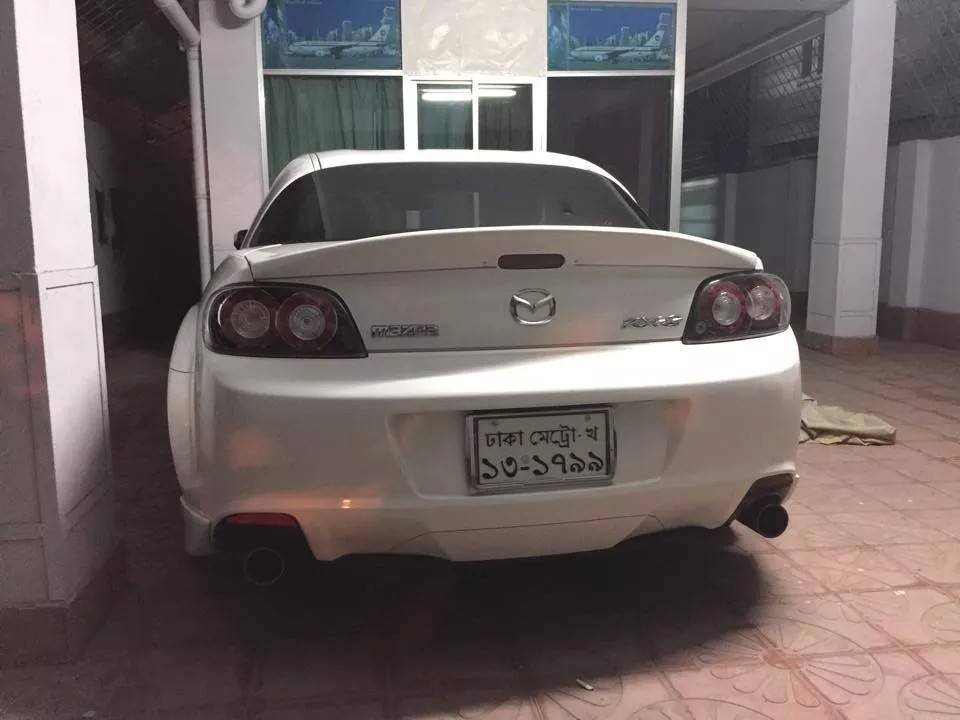registration_plate: (474, 412, 609, 485)
